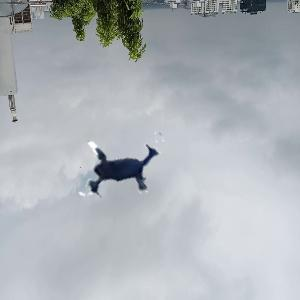drone: (62, 108, 178, 224)
